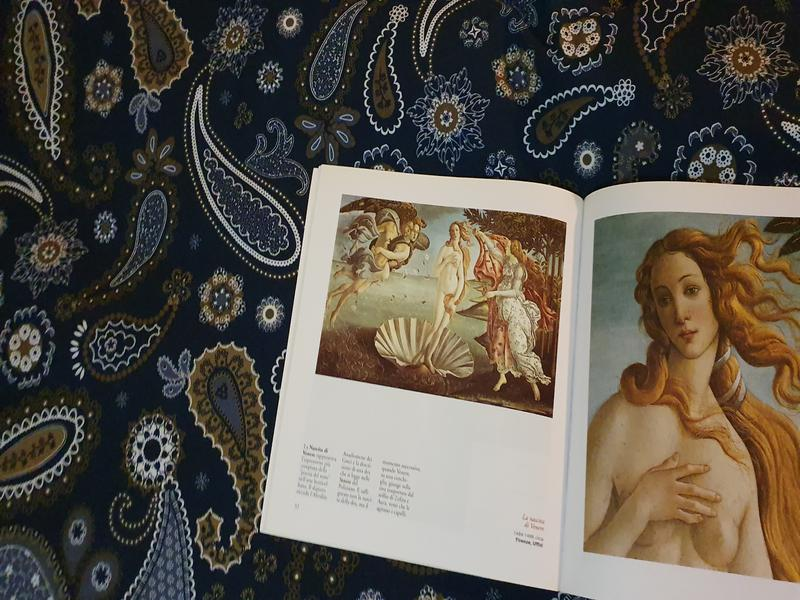Venere: (313, 194, 563, 419)
